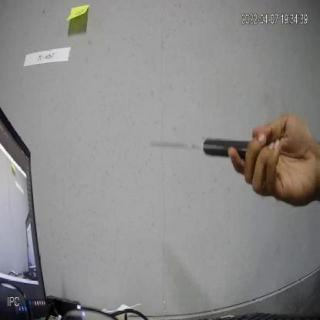knife: (148, 107, 266, 161)
